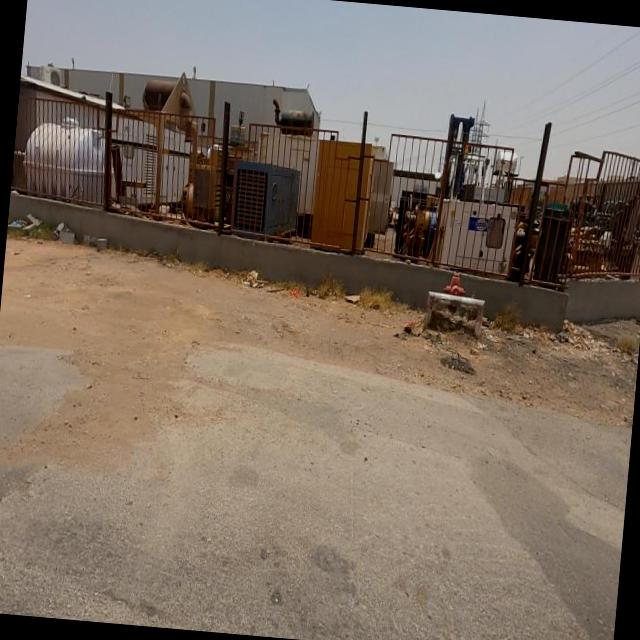debris: (412, 304, 507, 412), (510, 288, 618, 374), (362, 285, 454, 374), (211, 233, 298, 327), (324, 252, 392, 347), (38, 188, 103, 274), (5, 193, 68, 255), (276, 266, 318, 326)
